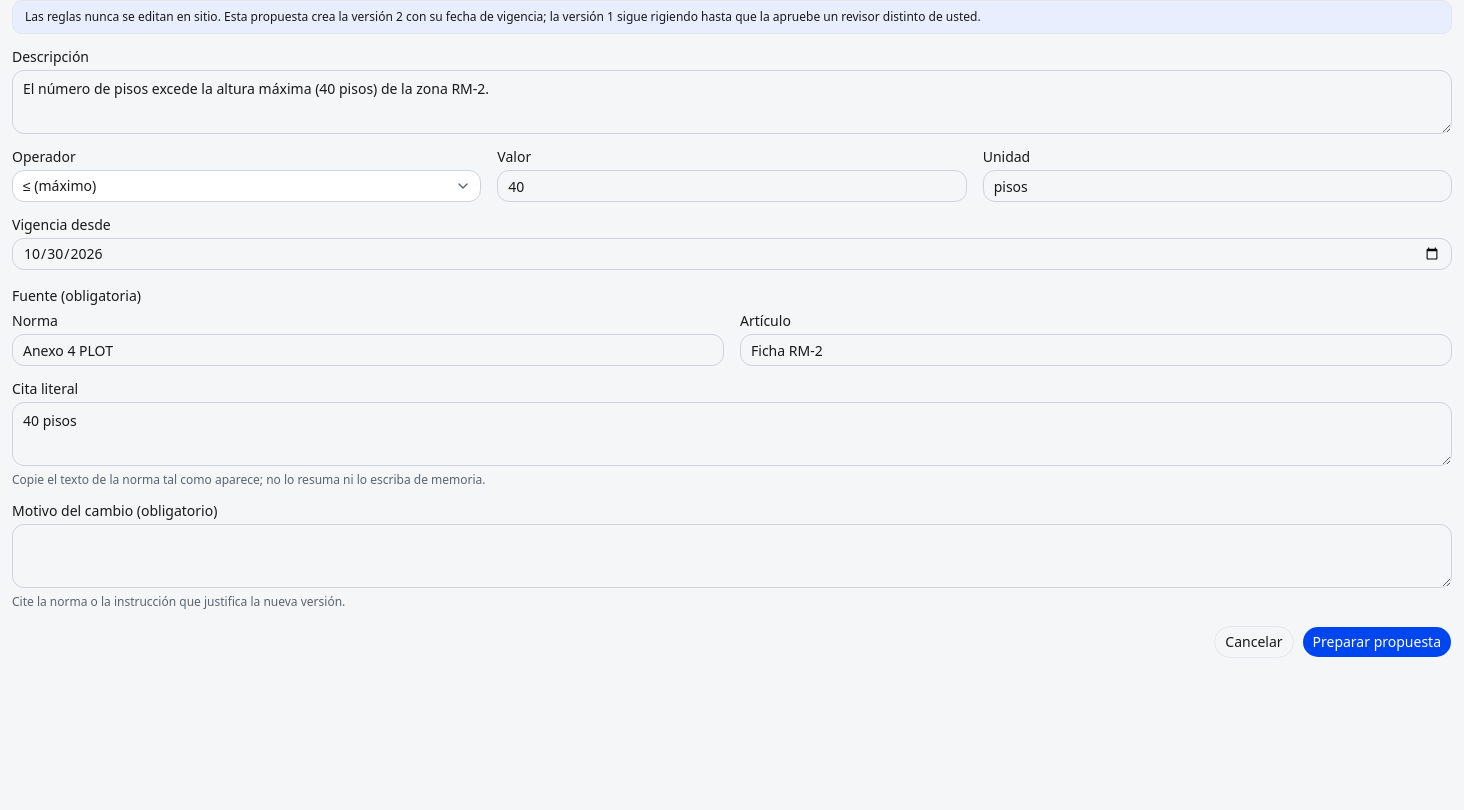
Test: RuleVersionForm › exige el motivo y no envía sin él
Expected: the text "nunca se editan en sitio" is shown, x1=25 y1=8 x2=396 y2=25
Click the button "Preparar propuesta": [1377, 642] box x1=1302 y1=626 x2=1452 y2=658
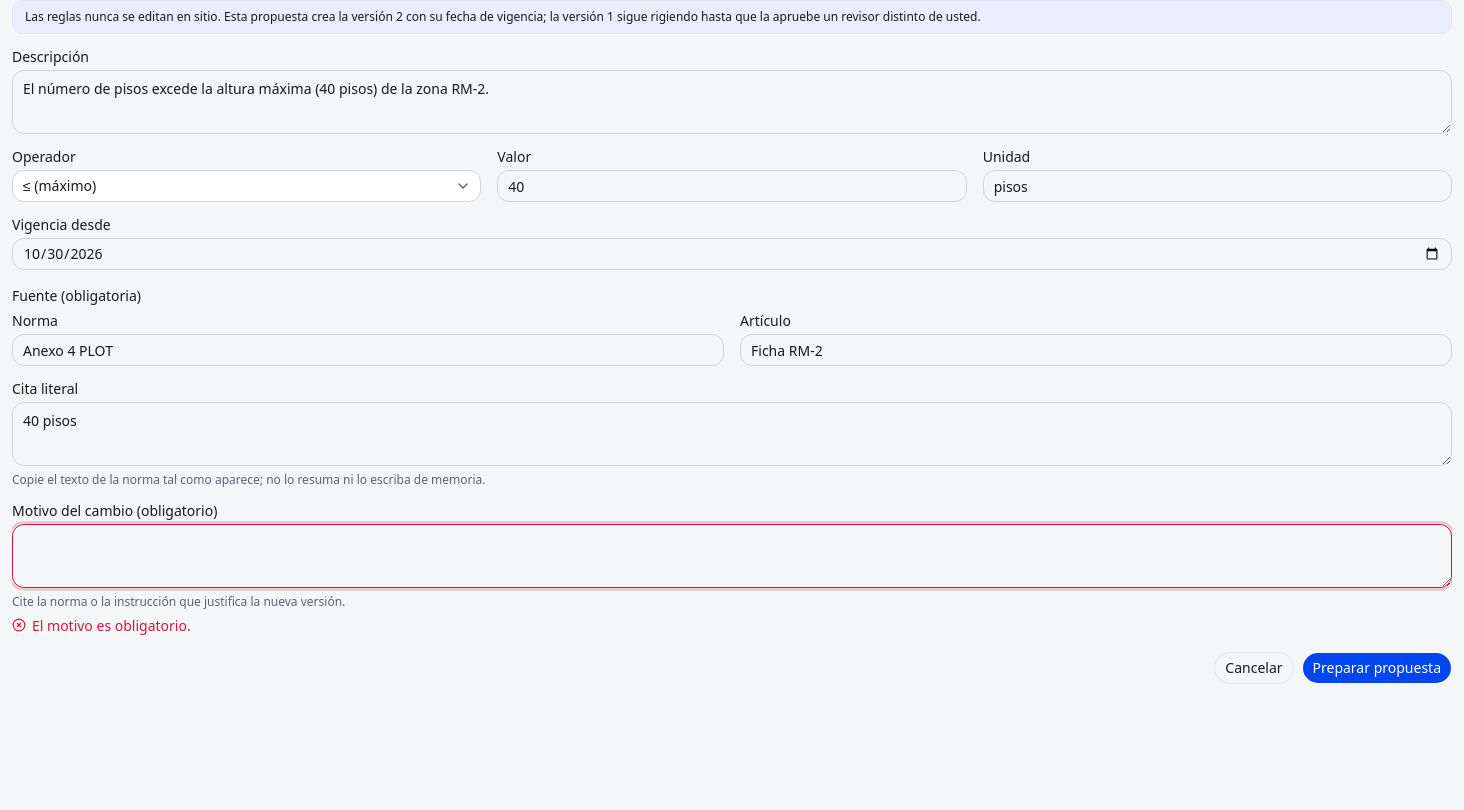
Now the text "El motivo es obligatorio." is shown, box x1=12 y1=616 x2=191 y2=635
